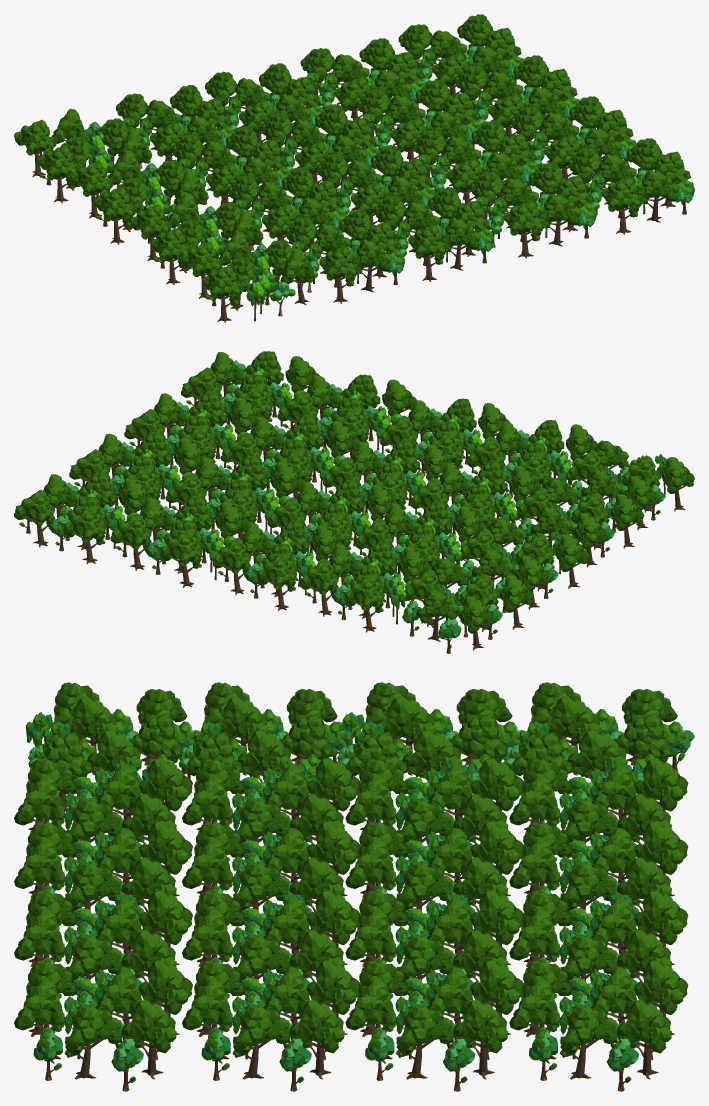
File: bosque3.obj
The picture shows the model from 3 angles, top to bottom: view 1: azimuth 30°, elevation 25°; view 2: azimuth 150°, elevation 25°; view 3: azimuth 270°, elevation 25°; orthographic projection. The views are drawn at different scales.
Parts seen in each view (by area): view 1: bosque3__6_tree.108, bosque3__6_tree.102, bosque3__6_tree.202, bosque3__6_tree.120, bosque3__6_tree.114, bosque3__6_tree.214, bosque3__6_tree.196, bosque3__6_tree.107, bosque3__6_tree.208, bosque3__6_tree.199, bosque3__6_tree.101, bosque3__6_tree.193 (+108 smaller); view 2: bosque3__6_tree.178, bosque3__6_tree.172, bosque3__6_tree.175, bosque3__6_tree.169, bosque3__6_tree.184, bosque3__6_tree.190, bosque3__6_tree.195, bosque3__6_tree.181, bosque3__6_tree.187, bosque3__6_tree.202, bosque3__6_tree.196, bosque3__6_tree.193 (+94 smaller); view 3: bosque3__6_tree.171, bosque3__6_tree.123, bosque3__6_tree.099, bosque3__6_tree.121, bosque3__6_tree.147, bosque3__6_tree.097, bosque3__6_tree.145, bosque3__6_tree.169, bosque3__6_tree.178, bosque3__6_tree.172, bosque3__6_tree.100, bosque3__6_tree.106 (+117 smaller).
Part boxes in pixels (x1=…): bosque3__6_tree.108: x1=503, y1=201, x2=546, y2=258; bosque3__6_tree.102: x1=601, y1=177, x2=644, y2=234; bosque3__6_tree.202: x1=94, y1=187, x2=136, y2=244; bosque3__6_tree.120: x1=319, y1=246, x2=359, y2=303; bosque3__6_tree.114: x1=408, y1=224, x2=448, y2=281; bosque3__6_tree.214: x1=202, y1=265, x2=243, y2=322; bosque3__6_tree.196: x1=38, y1=145, x2=79, y2=203; bosque3__6_tree.107: x1=538, y1=194, x2=581, y2=246; bosque3__6_tree.208: x1=151, y1=228, x2=190, y2=284; bosque3__6_tree.199: x1=70, y1=161, x2=113, y2=218; bosque3__6_tree.101: x1=636, y1=170, x2=679, y2=222; bosque3__6_tree.193: x1=14, y1=119, x2=56, y2=177; bosque3__6_tree.178: x1=160, y1=530, x2=202, y2=587; bosque3__6_tree.172: x1=63, y1=507, x2=106, y2=564; bosque3__6_tree.175: x1=110, y1=513, x2=151, y2=570; bosque3__6_tree.169: x1=14, y1=489, x2=54, y2=547; bosque3__6_tree.184: x1=257, y1=553, x2=297, y2=610; bosque3__6_tree.190: x1=344, y1=575, x2=384, y2=632; bosque3__6_tree.195: x1=416, y1=590, x2=458, y2=641; bosque3__6_tree.181: x1=212, y1=537, x2=250, y2=595; bosque3__6_tree.187: x1=300, y1=559, x2=338, y2=616; bosque3__6_tree.202: x1=556, y1=534, x2=589, y2=588; bosque3__6_tree.196: x1=500, y1=575, x2=533, y2=629; bosque3__6_tree.193: x1=458, y1=596, x2=493, y2=650; bosque3__6_tree.171: x1=560, y1=1004, x2=617, y2=1079; bosque3__6_tree.123: x1=396, y1=1004, x2=453, y2=1079; bosque3__6_tree.099: x1=64, y1=1004, x2=122, y2=1079; bosque3__6_tree.121: x1=453, y1=999, x2=508, y2=1079; bosque3__6_tree.147: x1=232, y1=1004, x2=290, y2=1079; bosque3__6_tree.097: x1=121, y1=999, x2=176, y2=1079; bosque3__6_tree.145: x1=289, y1=999, x2=344, y2=1079; bosque3__6_tree.169: x1=617, y1=1000, x2=671, y2=1079; bosque3__6_tree.178: x1=634, y1=890, x2=688, y2=964; bosque3__6_tree.172: x1=634, y1=960, x2=688, y2=1034; bosque3__6_tree.100: x1=138, y1=960, x2=192, y2=1034; bosque3__6_tree.106: x1=138, y1=890, x2=192, y2=964.
Size of the model in its own units: 26.39 by 2.64 by 21.43.
